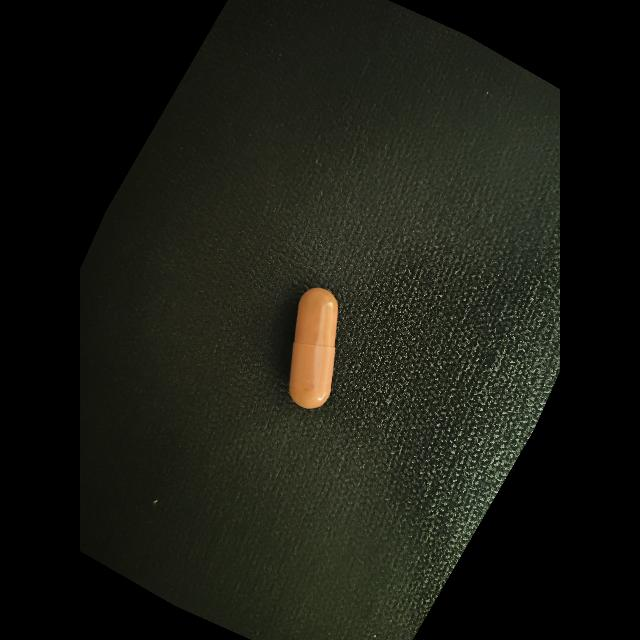Intact Capsule: (289, 288, 338, 409)
